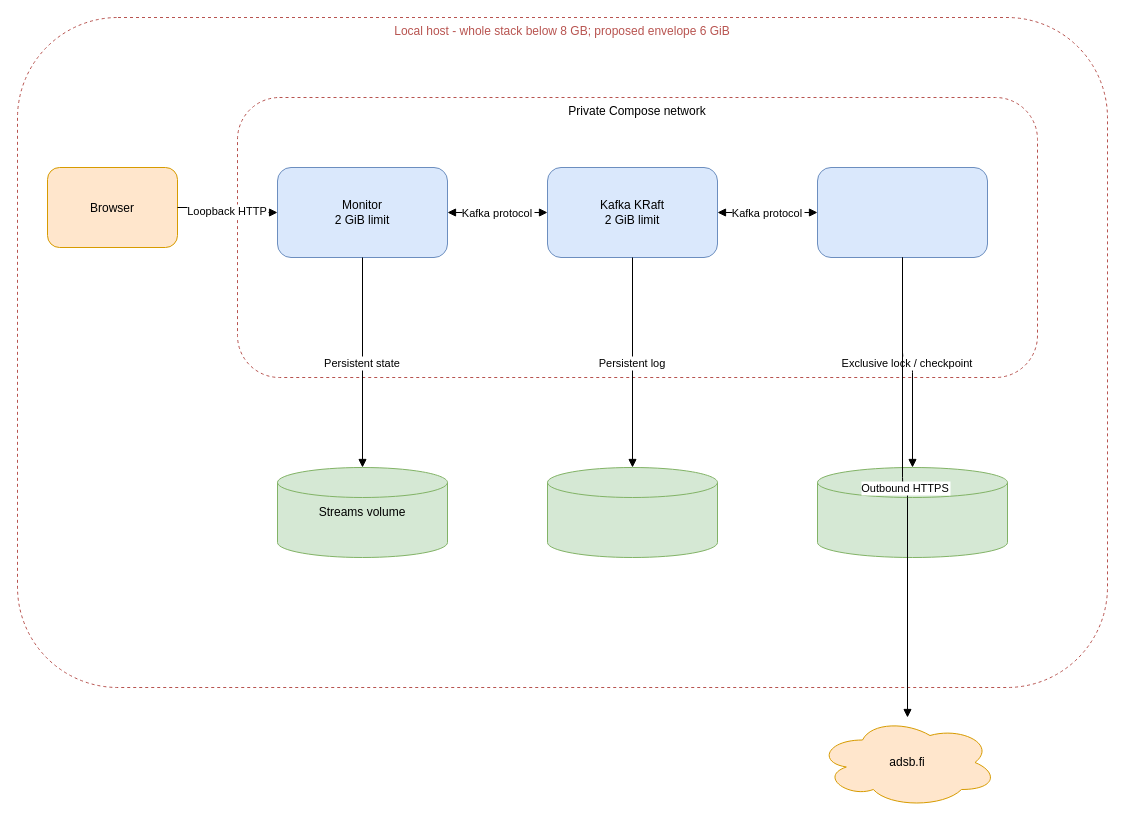
Some shapes in this 1125 by 825 pixel diagram are drawn without their labels. The box of each missing label's shape, as (x1, y1, x2, y2) in pixels:
Broker volume: (546, 466, 718, 558)
Checkpoint / lock volume: (816, 466, 1008, 558)
Poller 512 MiB limit: (816, 166, 988, 258)
